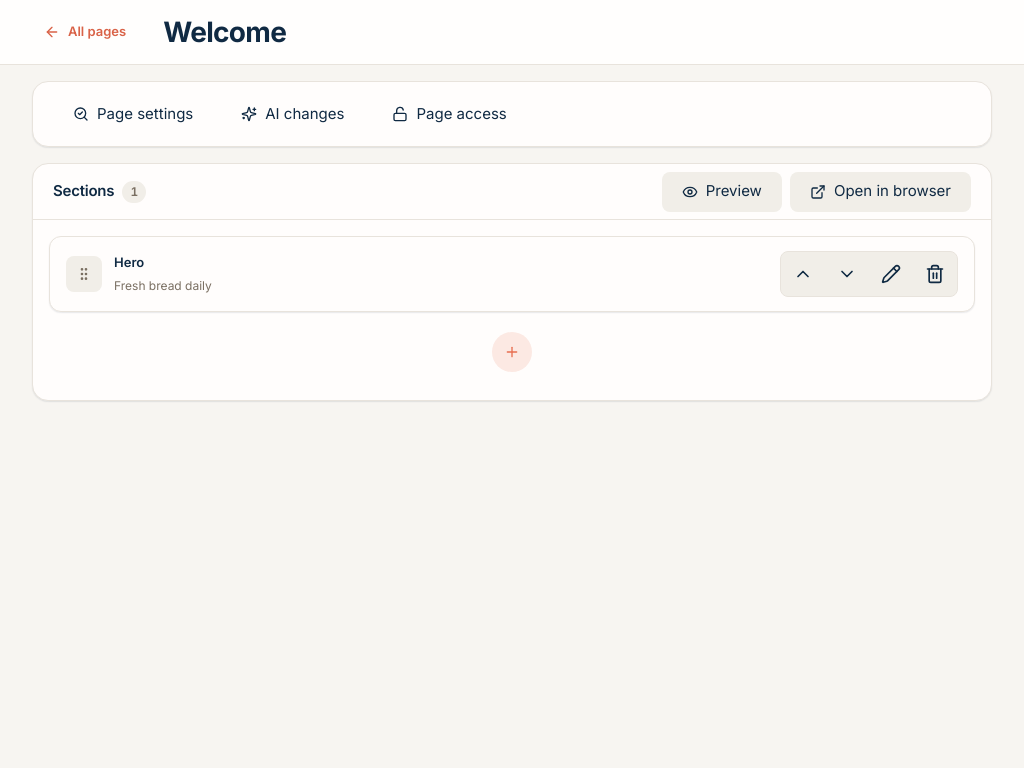
Test: framing a picture › a picture that cannot be shown still frames by the numbers
Expected: the text "Hero" is shown, top-left (114, 253), bottom-right (144, 273)
Click the button named "Edit Hero" at (891, 274), box top-left (871, 254), bottom-right (911, 294)
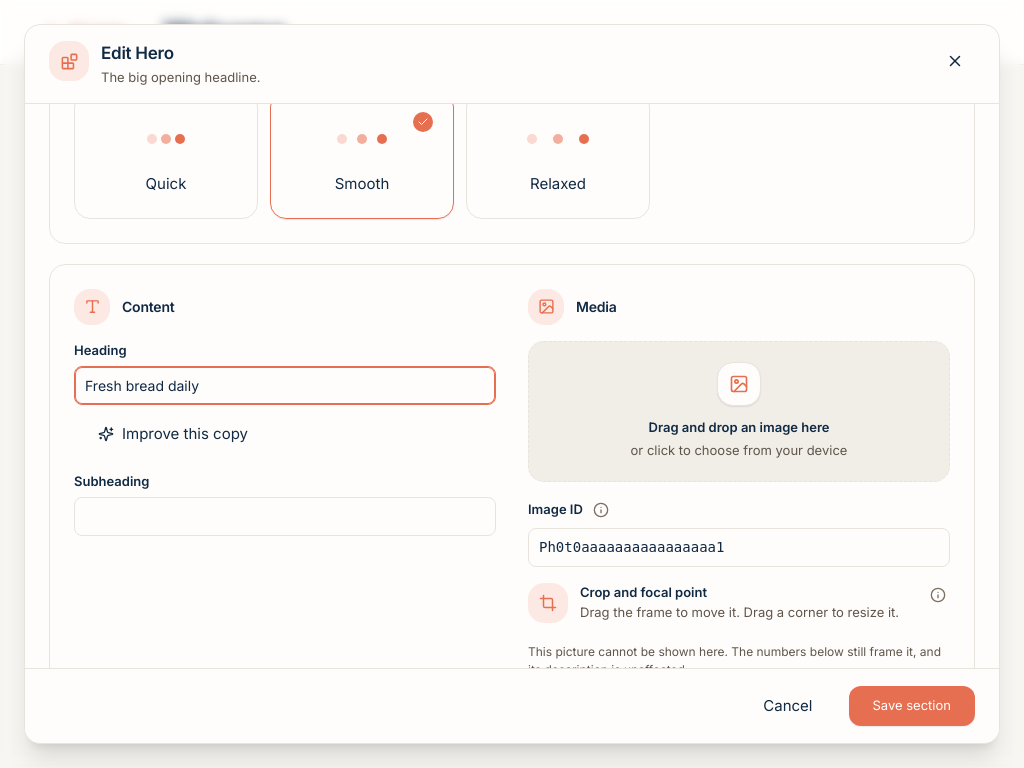
Now the text "This picture cannot be shown here. The numbers below still frame it, and its description is unaffected." is shown, box top-left (528, 644), bottom-right (941, 668)
